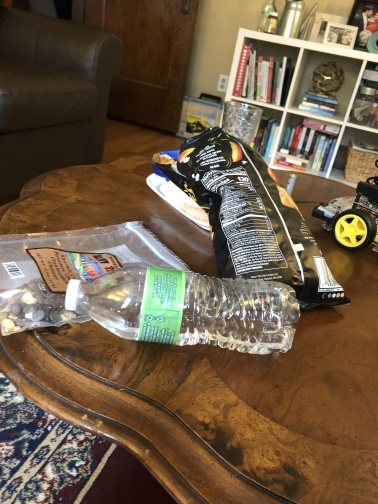battery: (280, 172, 298, 199)
bottle: (60, 263, 301, 360)
